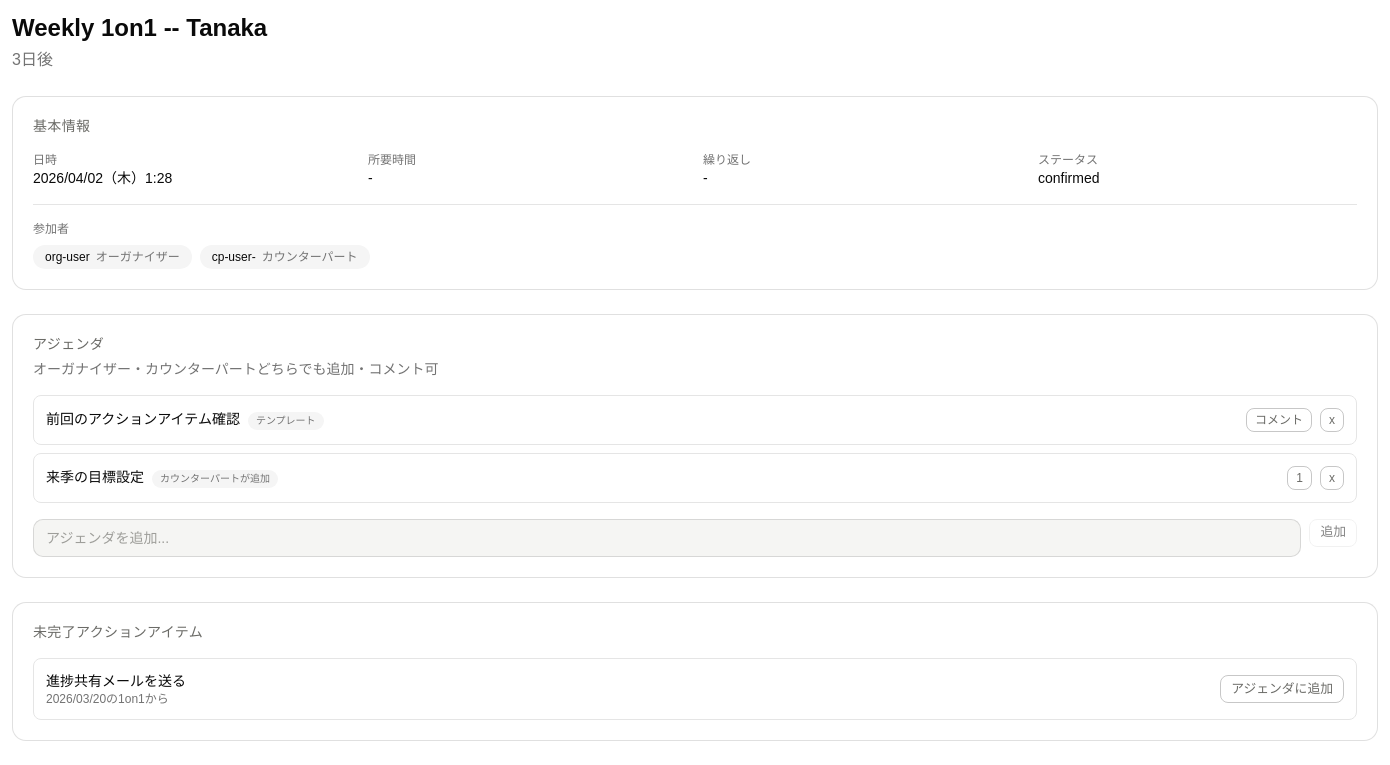
Test case: PreparationPage › shows addComment error message in comment thread
Click the button "1".
click(1300, 478)  # box [1287,466,1312,490]
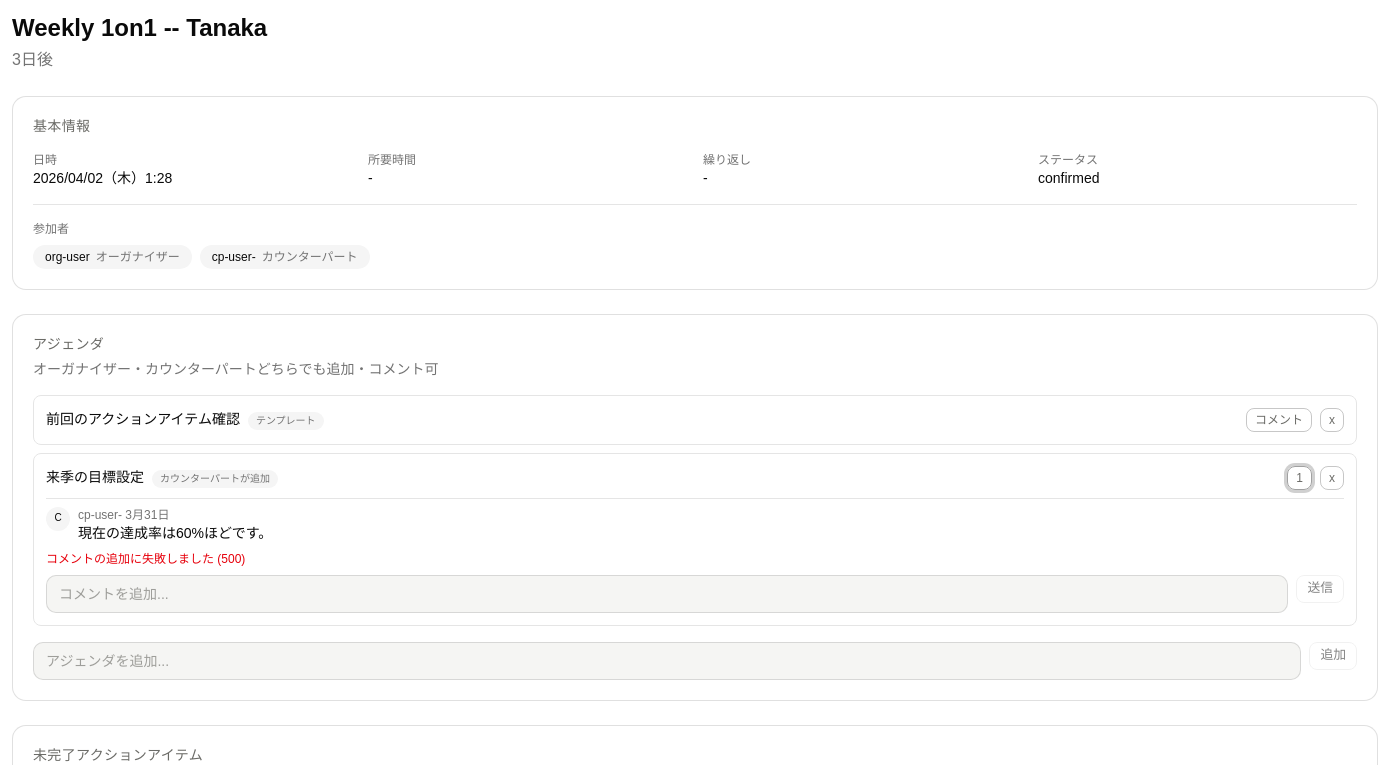
Check: the text "コメントの追加に失敗しました (500)" is shown, box [46,552,245,566]
